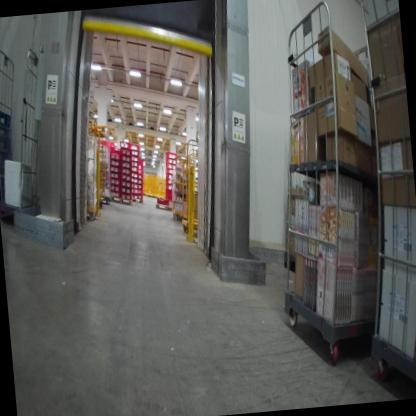pallet: (109, 192, 134, 209), (154, 200, 176, 212), (131, 196, 144, 205)
